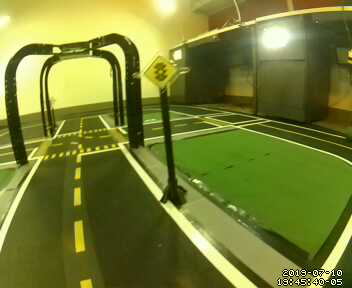Traffic light sign: (145, 55, 178, 90)
